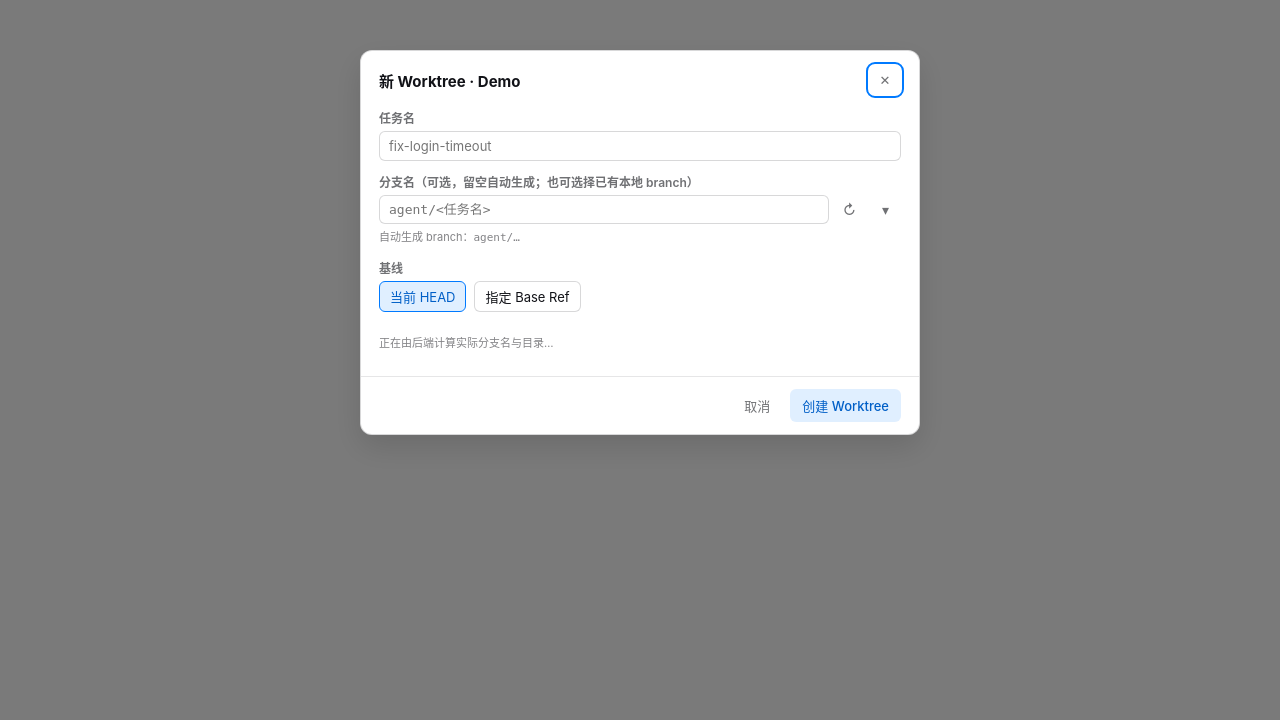
Test: New Worktree local branch picker › shows the backend-authoritative Unicode auto branch and directory
This screenshot has width=1280, height=720.
Type "修复 登录超时" into the field labelled "任务名" at [640, 146], box [379,131,901,161]
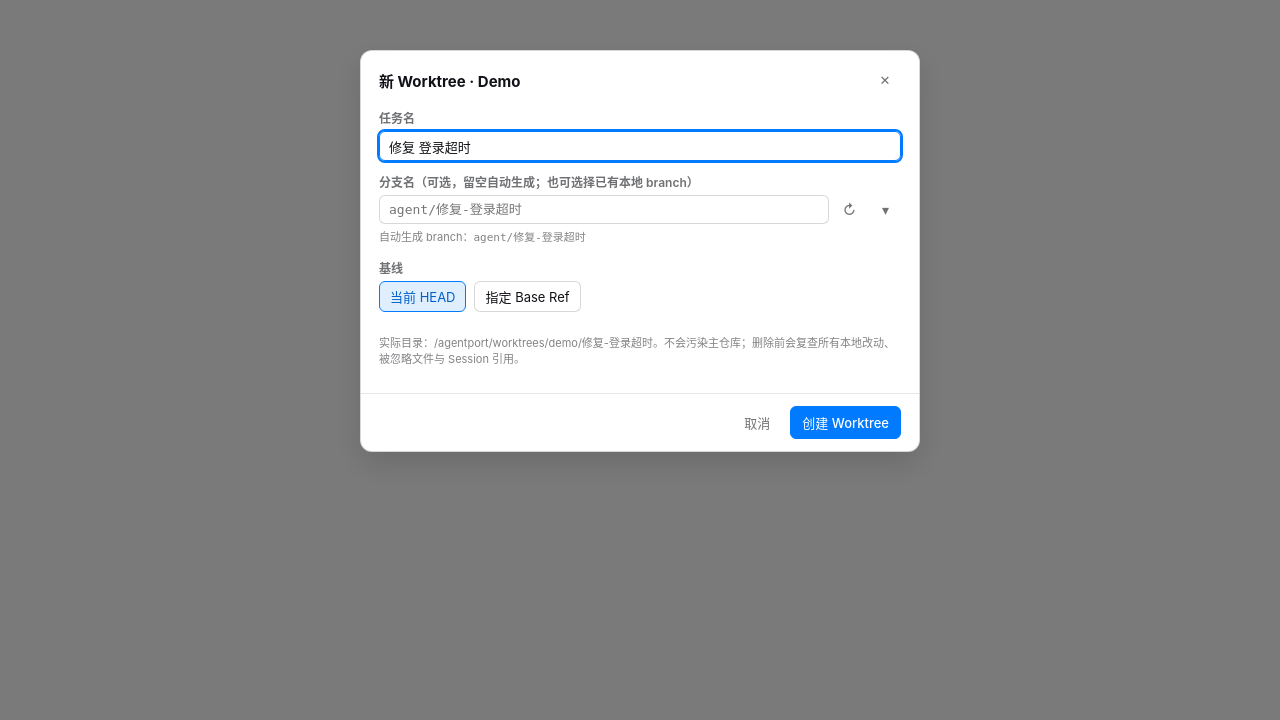
Expected: the text "agent/修复-登录超时" is shown, [473,231,586,244]
